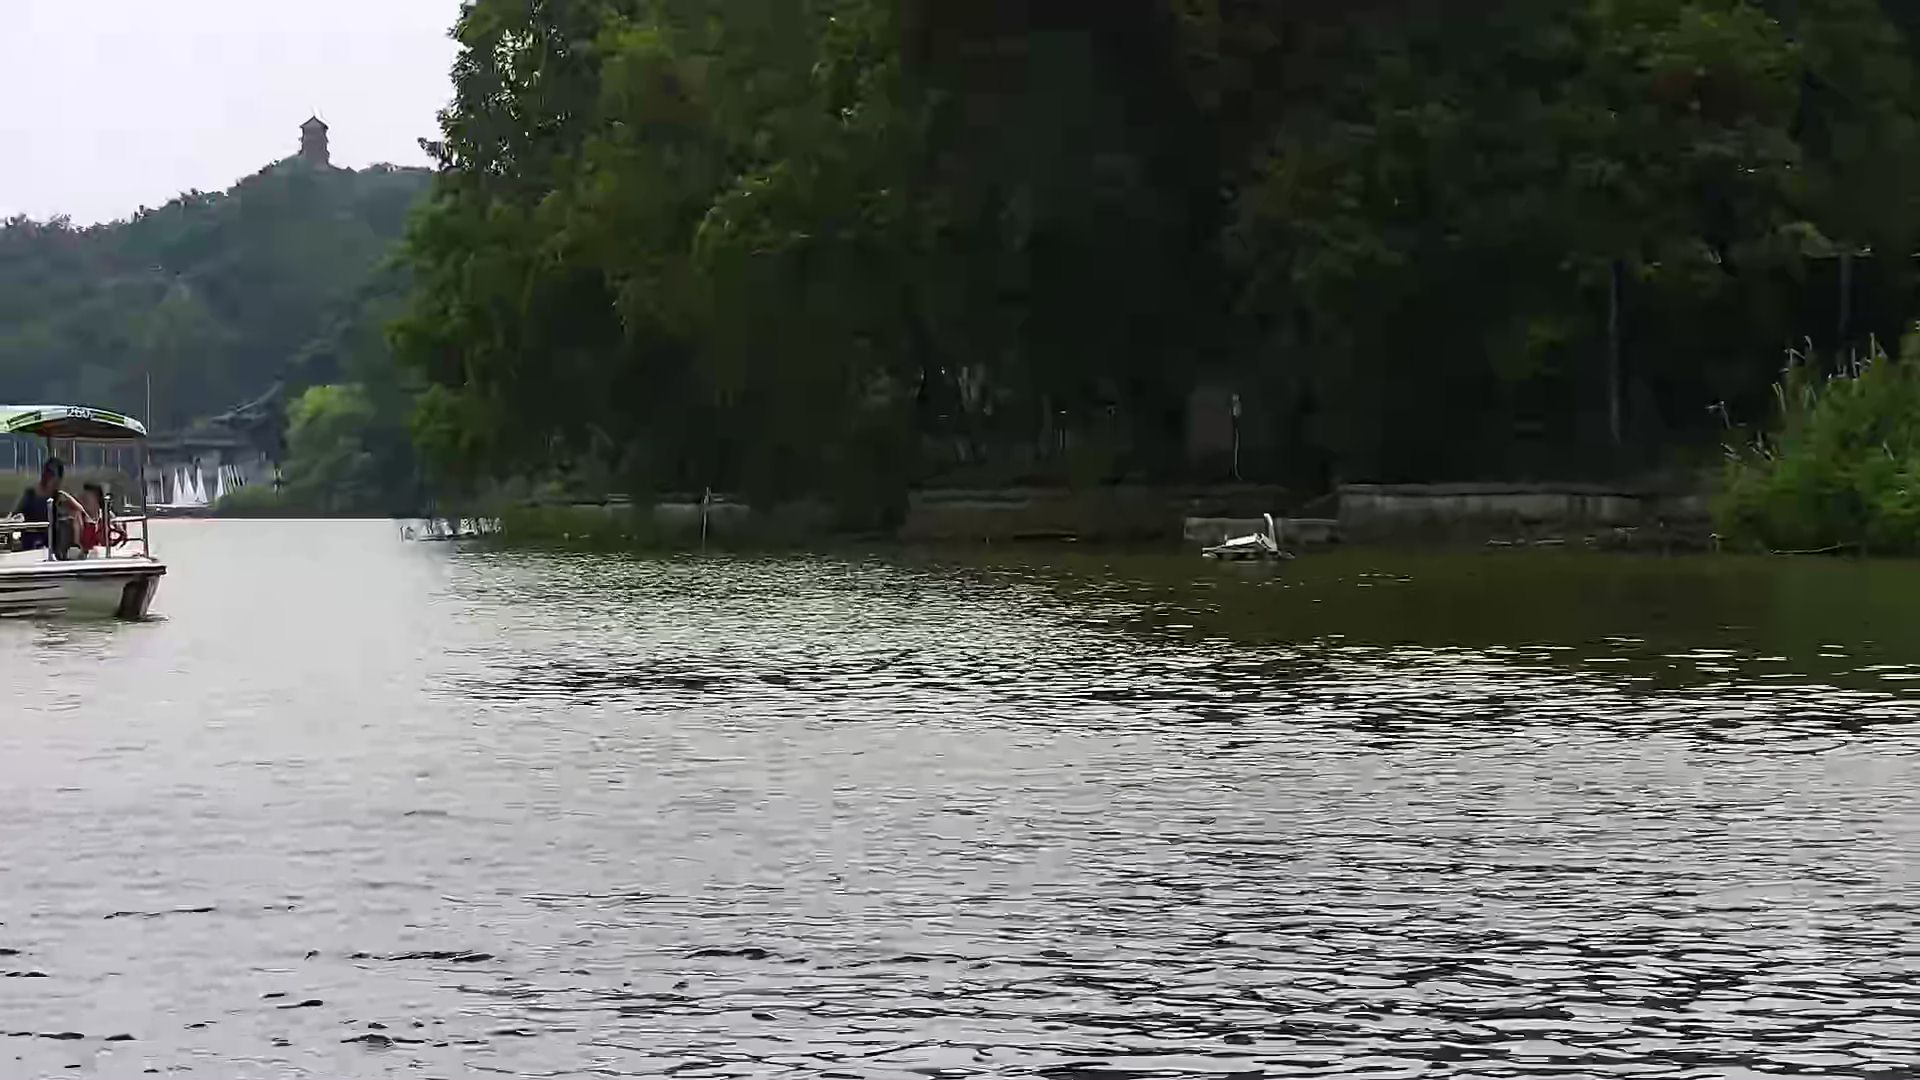boat: (8, 396, 164, 621)
rubbish: (1193, 506, 1305, 564)
